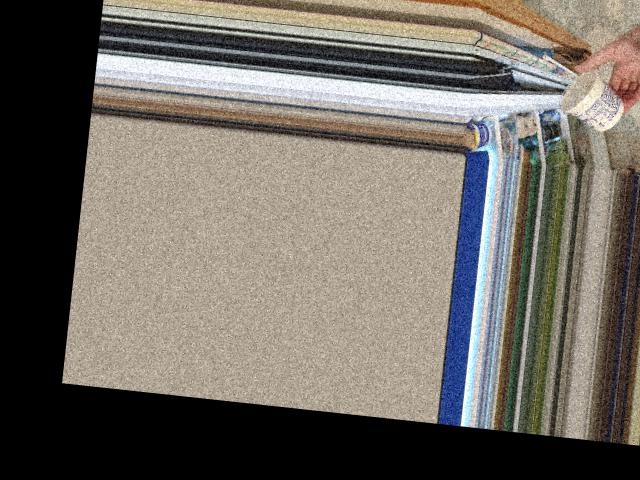cotage: (554, 66, 617, 130)
